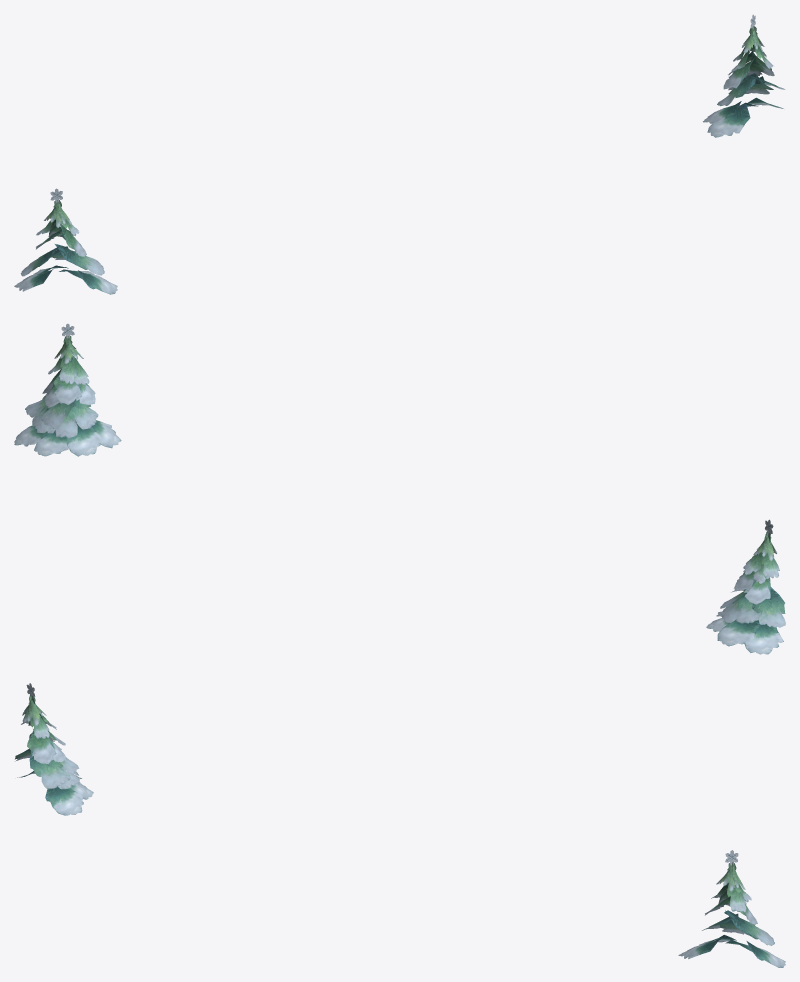
File: pref_sm_beach_bk_winter_pointmol_tree_D01_lv0.fbx
The picture shows the model from 3 angles, top to bottom: view 1: azimuth 30°, elevation 25°; view 2: azimuth 150°, elevation 25°; view 3: azimuth 330°, elevation 25°; orthographic projection. The views are drawn at different scales.
Visible parts, largest first — view 1: sm_beach_bk_winter_pointmol_tree_D01a_lv0; view 2: sm_beach_bk_winter_pointmol_tree_D01a_lv0; view 3: sm_beach_bk_winter_pointmol_tree_D01a_lv0.
Boxes of the visible parts, x1,y1,x2,y2 form: sm_beach_bk_winter_pointmol_tree_D01a_lv0: (14,14,785,294); sm_beach_bk_winter_pointmol_tree_D01a_lv0: (14,323,785,654); sm_beach_bk_winter_pointmol_tree_D01a_lv0: (15,683,785,967).
Size of the model in its own units: 50.65 by 7.92 by 6.12.
